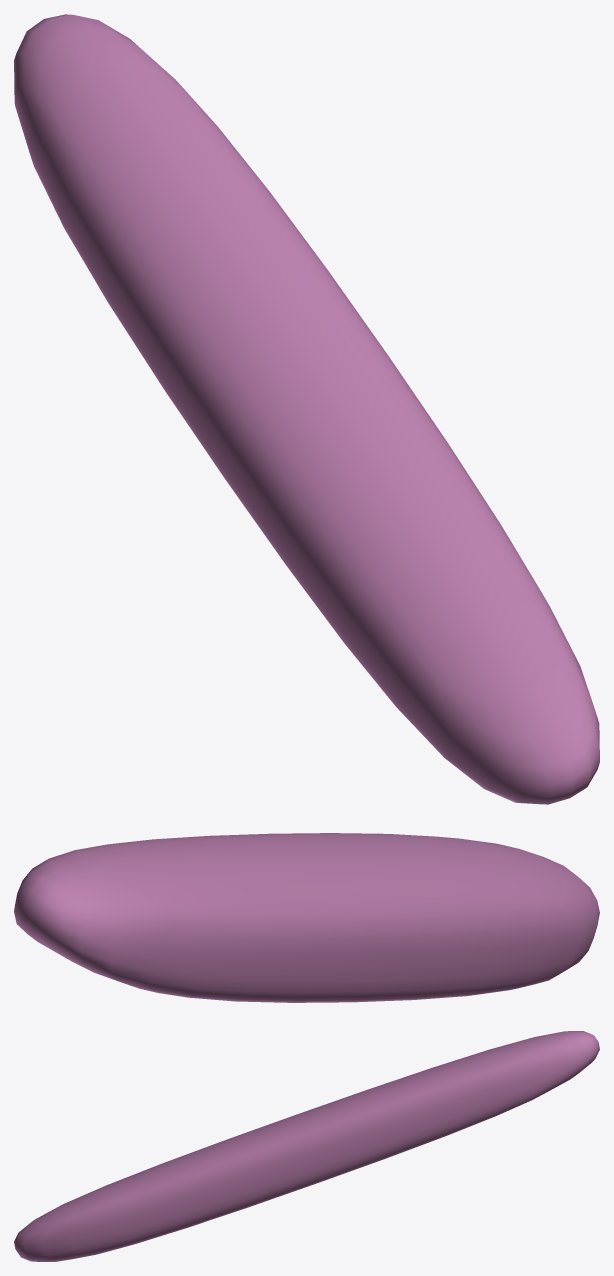
The picture shows the model from 3 angles, top to bottom: view 1: azimuth 30°, elevation 25°; view 2: azimuth 150°, elevation 25°; view 3: azimuth 270°, elevation 25°; orthographic projection. The views are drawn at different scales.
Parts seen in each view (by area): view 1: 右侧舌下神经核; view 2: 右侧舌下神经核; view 3: 右侧舌下神经核.
Part boxes in pixels (<box>): 右侧舌下神经核: <box>14,14,599,804</box>; 右侧舌下神经核: <box>14,833,599,1002</box>; 右侧舌下神经核: <box>14,1031,599,1261</box>.
Bounding box in the file's own units: 0.00193 × 0.00471 × 0.0109.
